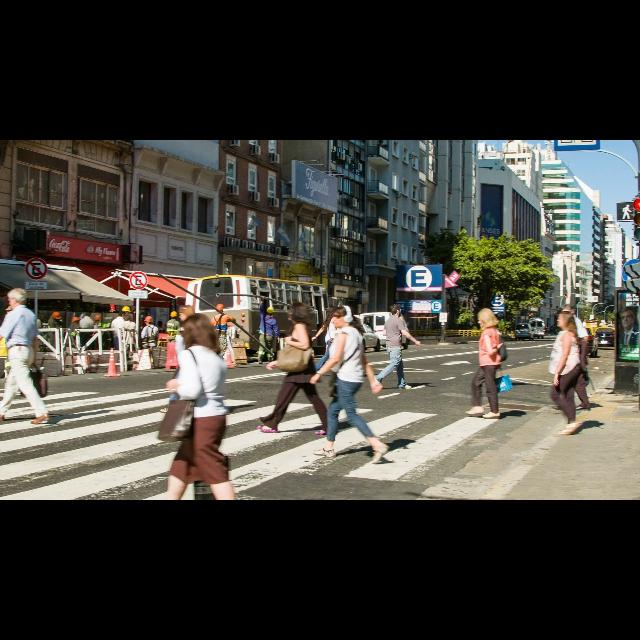head: (332, 306, 354, 328), (8, 288, 28, 310), (288, 302, 306, 322), (556, 310, 574, 328), (478, 308, 494, 328), (178, 305, 194, 323), (561, 304, 575, 320), (391, 305, 402, 317), (329, 306, 339, 316), (7, 306, 16, 316), (216, 304, 224, 314), (267, 306, 275, 316), (145, 318, 153, 327), (52, 312, 60, 320), (72, 319, 80, 327), (170, 312, 178, 320), (85, 310, 92, 318), (34, 312, 40, 320), (125, 314, 132, 320), (120, 312, 126, 318), (96, 320, 100, 324), (583, 318, 587, 322)
person: (307, 304, 393, 468), (255, 302, 341, 436), (157, 304, 231, 420), (1, 286, 54, 426), (462, 306, 516, 422), (368, 300, 424, 396), (547, 310, 589, 438), (548, 301, 592, 411), (307, 302, 355, 378), (2, 304, 28, 394), (254, 293, 282, 367), (206, 302, 238, 366), (117, 313, 139, 371), (57, 315, 83, 355), (164, 310, 183, 364), (140, 315, 160, 365), (110, 311, 128, 364), (47, 308, 67, 354), (24, 311, 44, 353), (78, 311, 94, 357), (88, 312, 104, 354), (582, 317, 588, 335)
